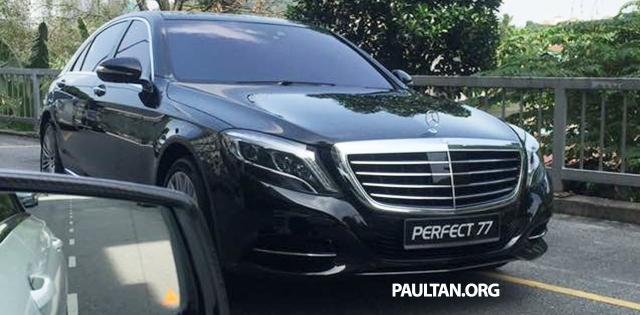License_Plate: (404, 214, 502, 251)
car: (42, 10, 556, 274)
